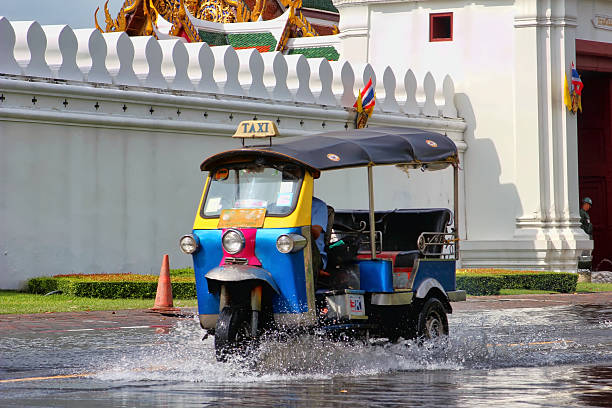threewheel: (178, 119, 467, 361)
